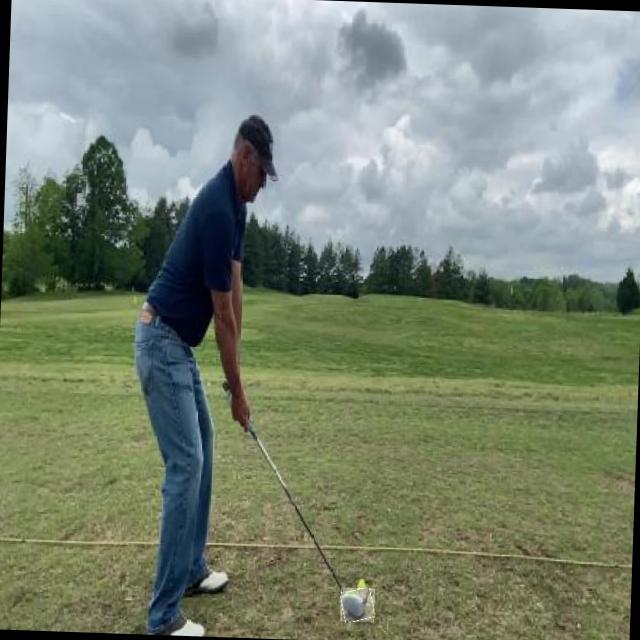club head: (340, 587, 374, 622)
